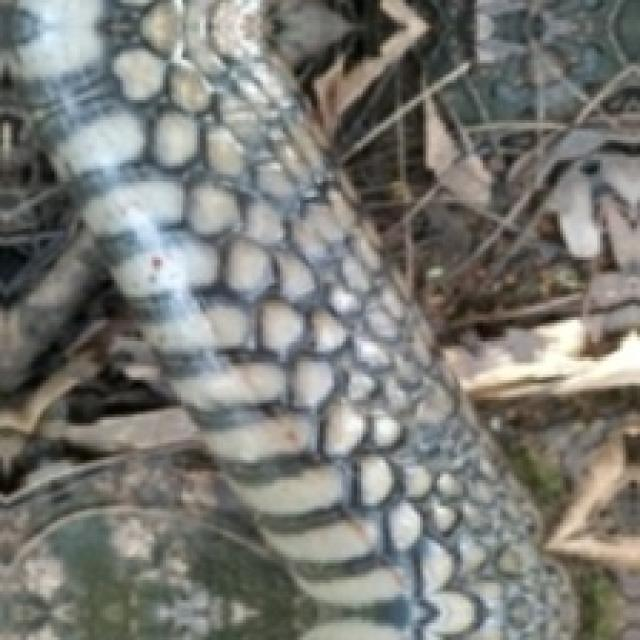king cobra: (0, 0, 574, 637)
